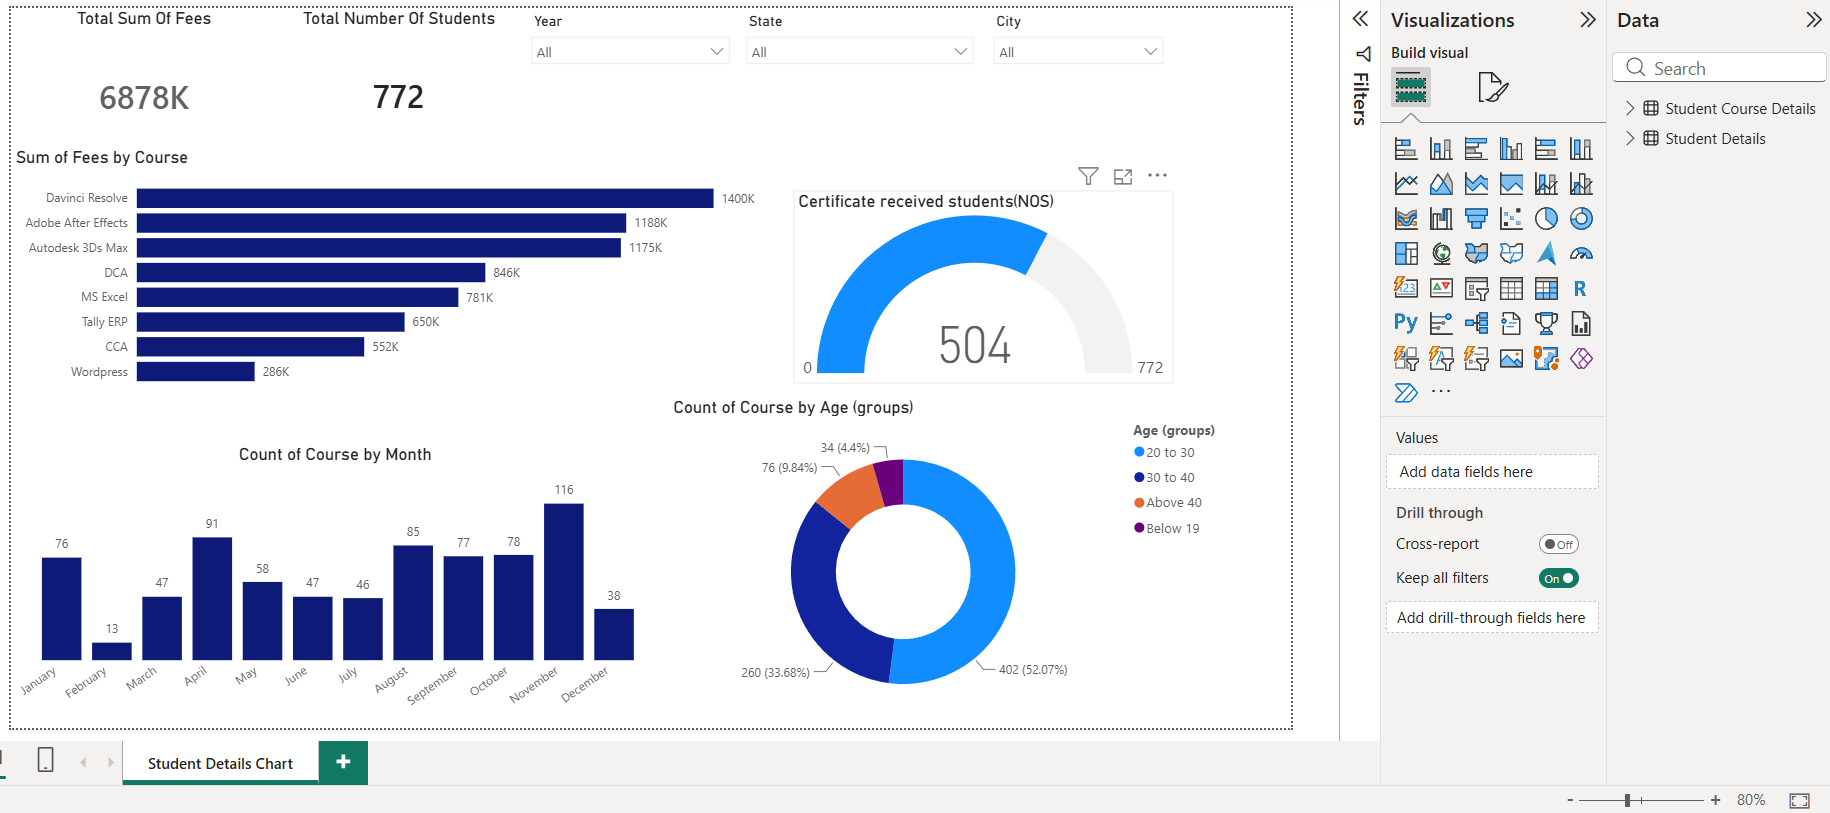

The dashboard page shown, as its layout file describes it:
{"tool":"powerbi","page":{"name":"Student Details Chart","canvas":[1280,720],"ordinal":0},"visuals":[{"type":"clusteredColumnChart","fields":{"Category":["Student Course Details.Date of Join.Variation.Date Hierarchy.Year","Student Course Details.Date of Join.Variation.Date Hierarchy.Quarter","Student Course Details.Date of Join.Variation.Date Hierarchy.Month","Student Course Details.Date of Join.Variation.Date Hierarchy.Day"],"Y":["CountNonNull(Student Course Details.Course)"]},"box":[0,436.2,648.8,283.8],"z":0},{"type":"donutChart","fields":{"Y":["CountNonNull(Student Course Details.Course)"],"Category":["Student Course Details.Age (groups)"]},"box":[657.5,388.8,568.8,331.2],"z":1000},{"type":"clusteredBarChart","fields":{"Category":["Student Course Details.Course"],"Y":["Sum(Student Course Details.Fees)"]},"box":[0,138.8,748.8,250],"z":2000},{"type":"cardVisual","title":"Total Sum Of Fees","fields":{"Data":["Sum(Student Course Details.Fees)"]},"box":[0,0,266.2,152.5],"z":3000},{"type":"cardVisual","title":"Total Number Of Students","fields":{"Data":["CountNonNull(Student Course Details.Course)"]},"box":[266.2,0,243.8,152.5],"z":4000},{"type":"gauge","fields":{"Y":["Student Course Details.Certificate received students(NOS)"]},"box":[782.5,182.5,380,193.8],"z":5000},{"type":"slicer","fields":{"Values":["Student Course Details.Date of Join.Variation.Date Hierarchy.Year"]},"box":[510,0,218.8,150],"z":6000},{"type":"slicer","fields":{"Values":["Student Details.State"]},"box":[725,0,247.5,150],"z":7000},{"type":"slicer","fields":{"Values":["Student Details.City"]},"box":[973,0,190,150],"z":8000}]}

Visuals, with their boxes on the page's 1280x720 design canvas (x1, y1, x2, y2). These are canvas units, not pixel positions in the 1830x813 screenshot, which may show the page scaled, cropped or inside an application window:
clusteredColumnChart - Student Course Details.Date of Join.Variation.Date Hierarchy.Year x Student Course Details.Date of Join.Variation.Date Hierarchy.Quarter: (0, 436, 649, 720)
donutChart - CountNonNull(Student Course Details.Course) x Student Course Details.Age (groups): (658, 389, 1226, 720)
clusteredBarChart - Student Course Details.Course x Sum(Student Course Details.Fees): (0, 139, 749, 389)
"Total Sum Of Fees" cardVisual: (0, 0, 266, 152)
"Total Number Of Students" cardVisual: (266, 0, 510, 152)
gauge - Student Course Details.Certificate received students(NOS): (782, 182, 1162, 376)
slicer - Student Course Details.Date of Join.Variation.Date Hierarchy.Year: (510, 0, 729, 150)
slicer - Student Details.State: (725, 0, 972, 150)
slicer - Student Details.City: (973, 0, 1163, 150)
